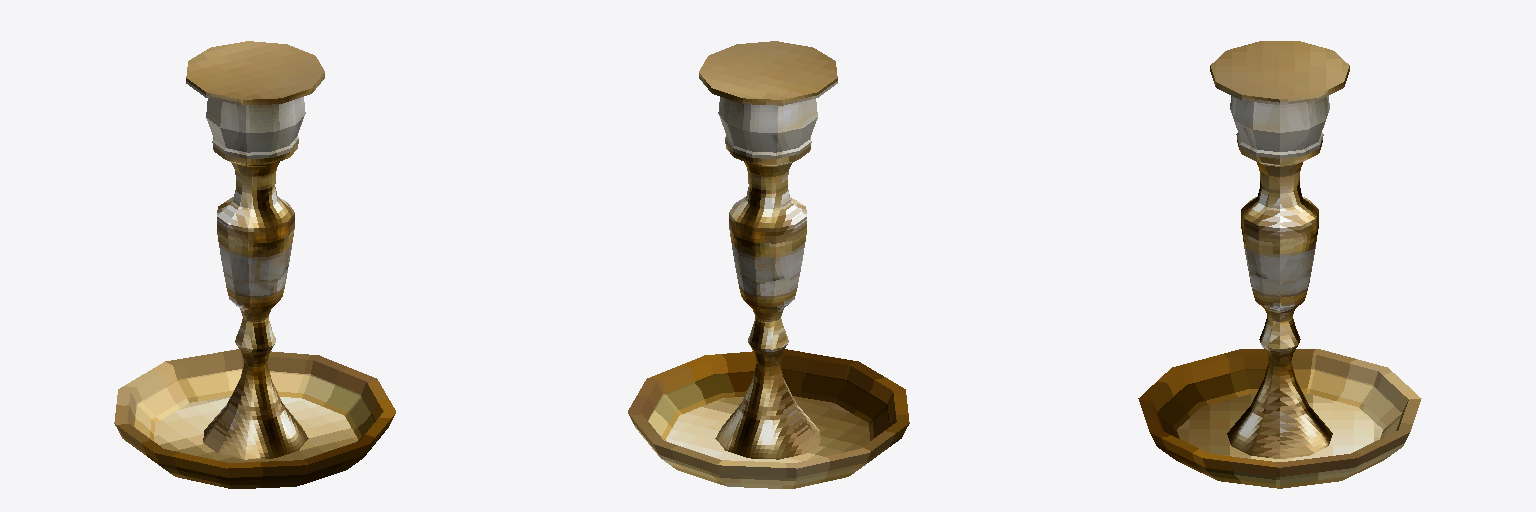
The picture shows the model from 3 angles: view 1: azimuth 30°, elevation 25°; view 2: azimuth 150°, elevation 25°; view 3: azimuth 270°, elevation 25°; orthographic projection.
Visible parts, largest first — view 1: candlestick1; view 2: candlestick1; view 3: candlestick1.
Boxes of the visible parts, x1=… form: candlestick1: x1=114, y1=41, x2=395, y2=488; candlestick1: x1=628, y1=41, x2=909, y2=488; candlestick1: x1=1138, y1=41, x2=1421, y2=488.
Bounding box in the file's own units: 0.1265 × 0.1846 × 0.1278.
Materials: 1 (1 with a texture image).